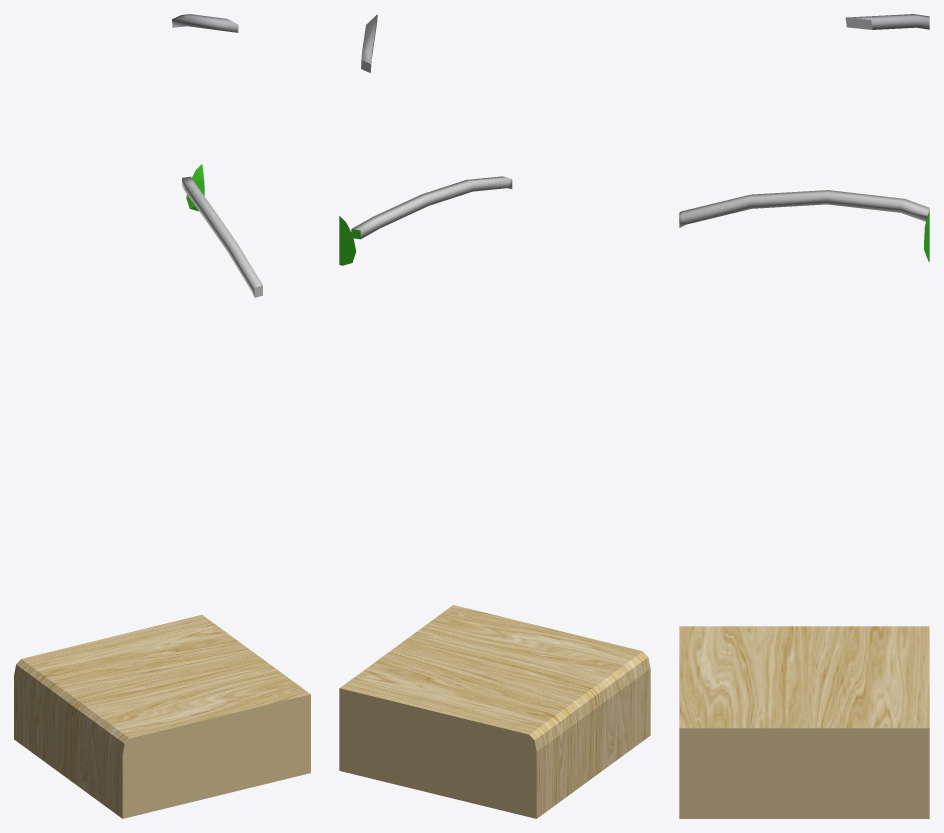
The model's file is 3_Motorikschleife.fbx.
3 views of the same model, side by side, from view 1: azimuth 30°, elevation 25°; view 2: azimuth 150°, elevation 25°; view 3: azimuth 270°, elevation 25° (orthographic). The views are drawn at different scales.
Parts seen in each view (by area): view 1: Cube.005; view 2: Cube.005; view 3: Cube.005.
Boxes of the visible parts, box(x1,y1,x2,y2) form: Cube.005: box(14, 14, 310, 818); Cube.005: box(339, 14, 650, 818); Cube.005: box(679, 14, 929, 818).
Size of the model in its own units: 500 by 1765 by 500.
